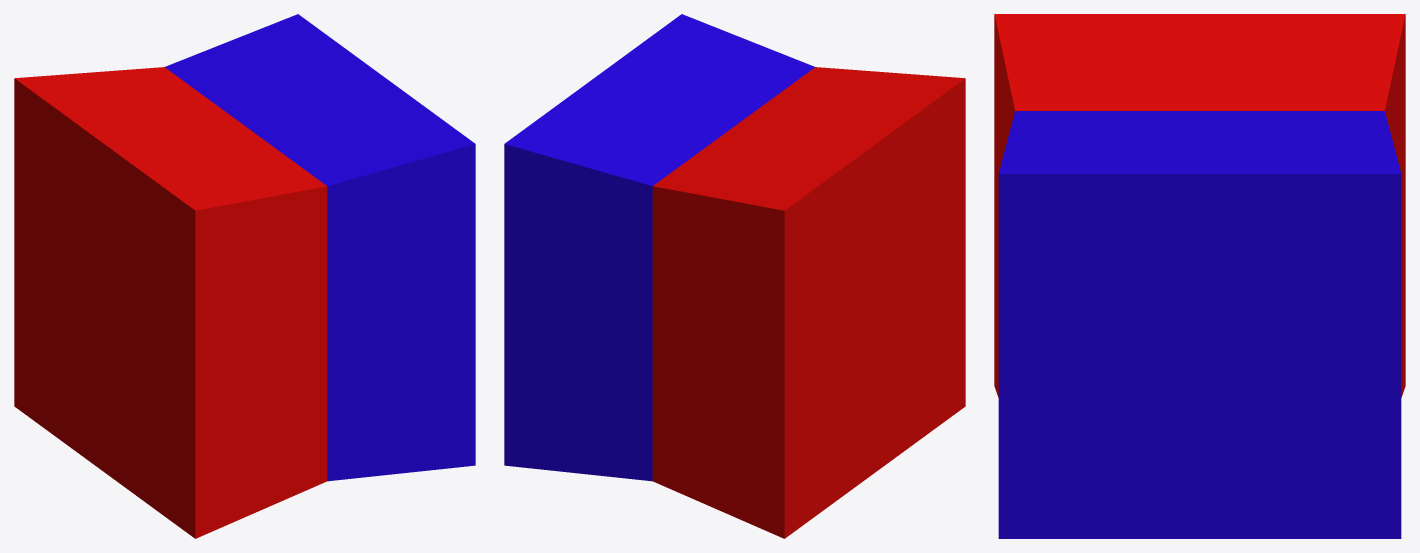
The model's file is 2sidetest.fbx.
3 views of the same model, side by side, from view 1: azimuth 30°, elevation 25°; view 2: azimuth 150°, elevation 25°; view 3: azimuth 270°, elevation 25° (orthographic). The views are drawn at different scales.
Parts seen in each view (by area): view 1: Cube; view 2: Cube; view 3: Cube.
Part boxes in pixels (box(x1,y1,x2,y2)): Cube: box(14, 14, 475, 538); Cube: box(504, 14, 965, 538); Cube: box(994, 14, 1405, 538).
Size of the model in its own units: 200 by 222 by 222.
